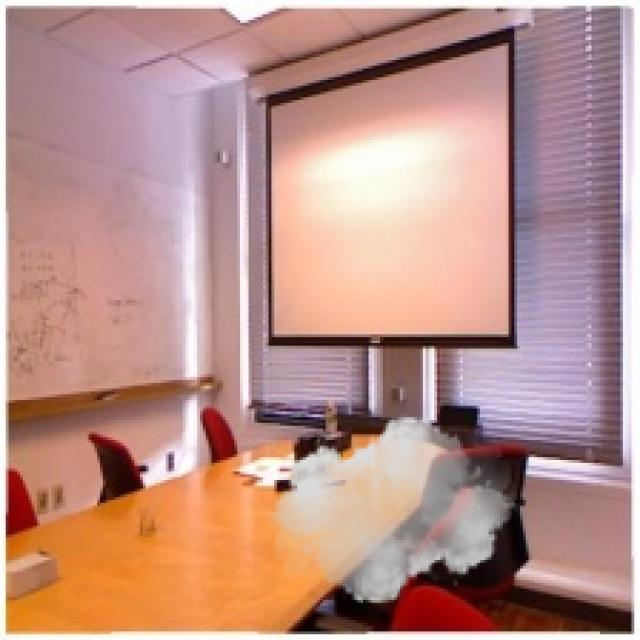smoke: (269, 408, 517, 612)
